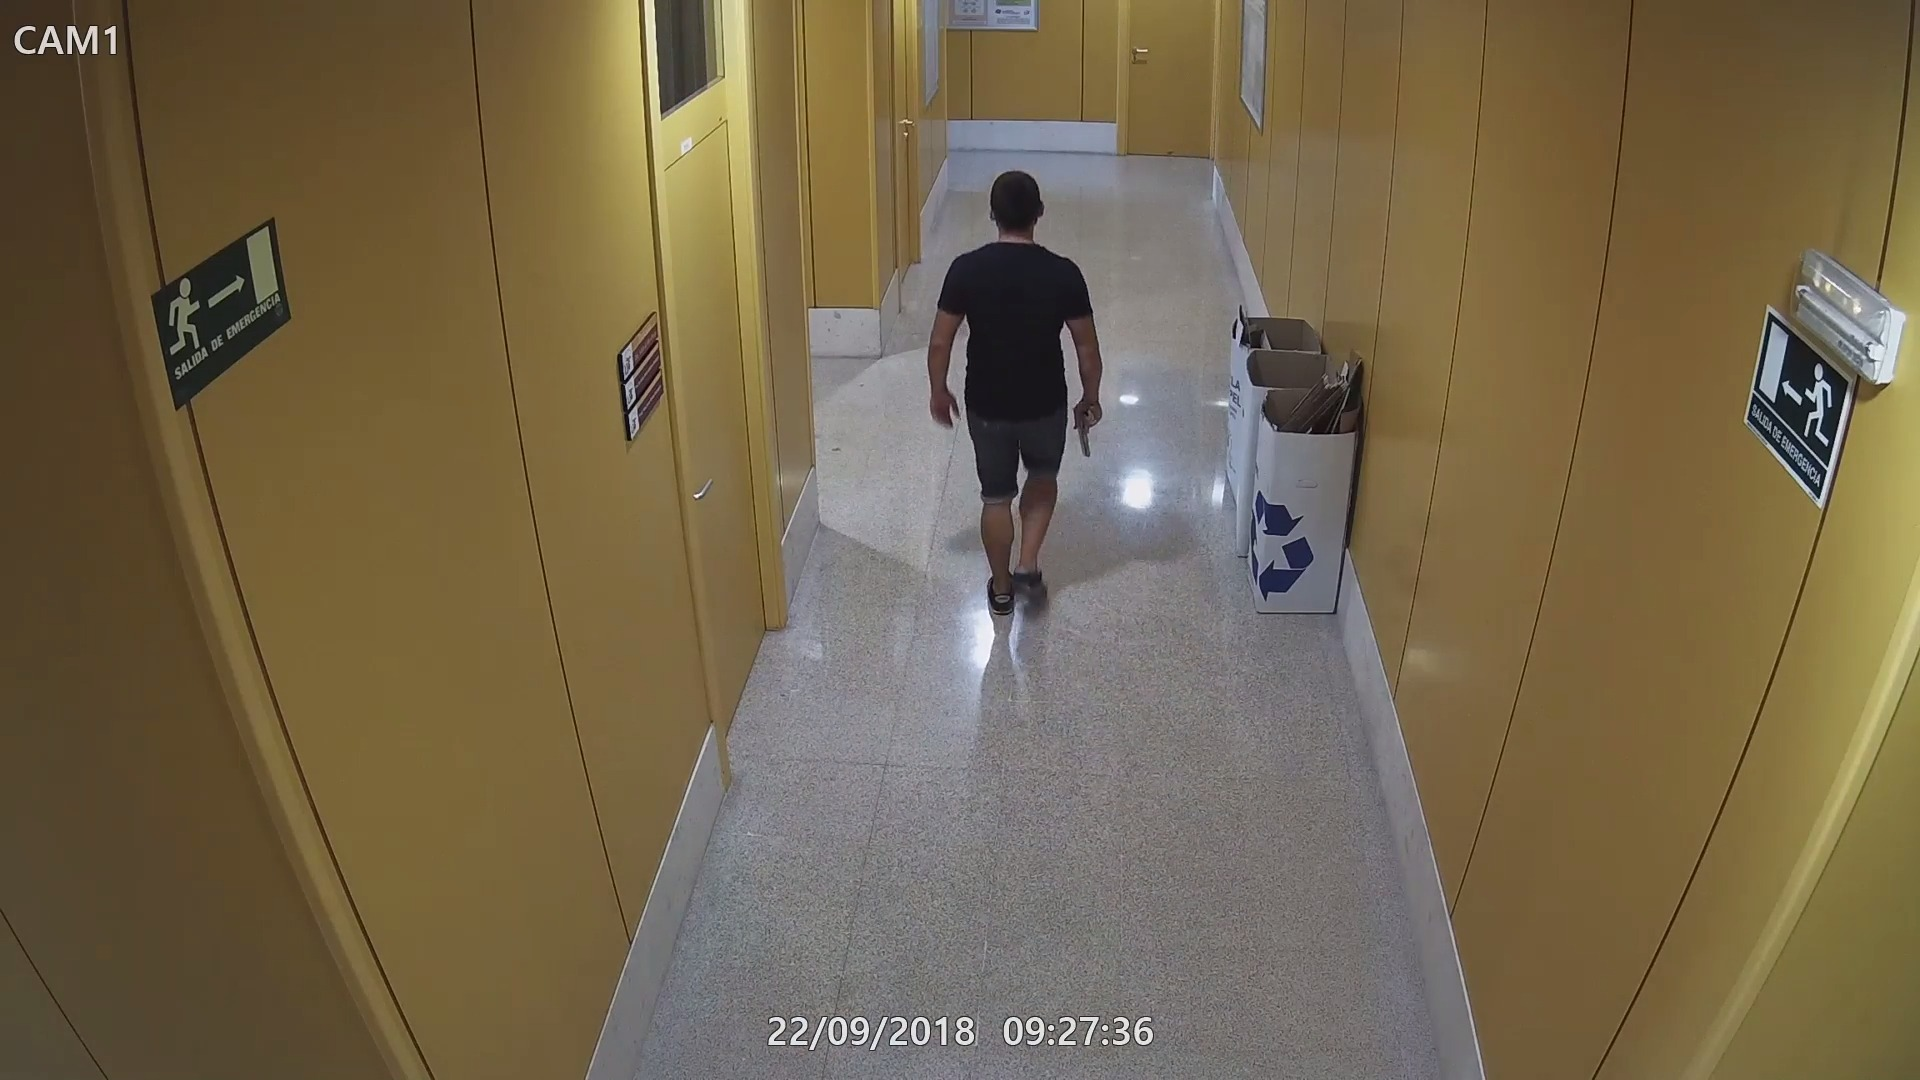Handgun: (1071, 400, 1106, 458)
